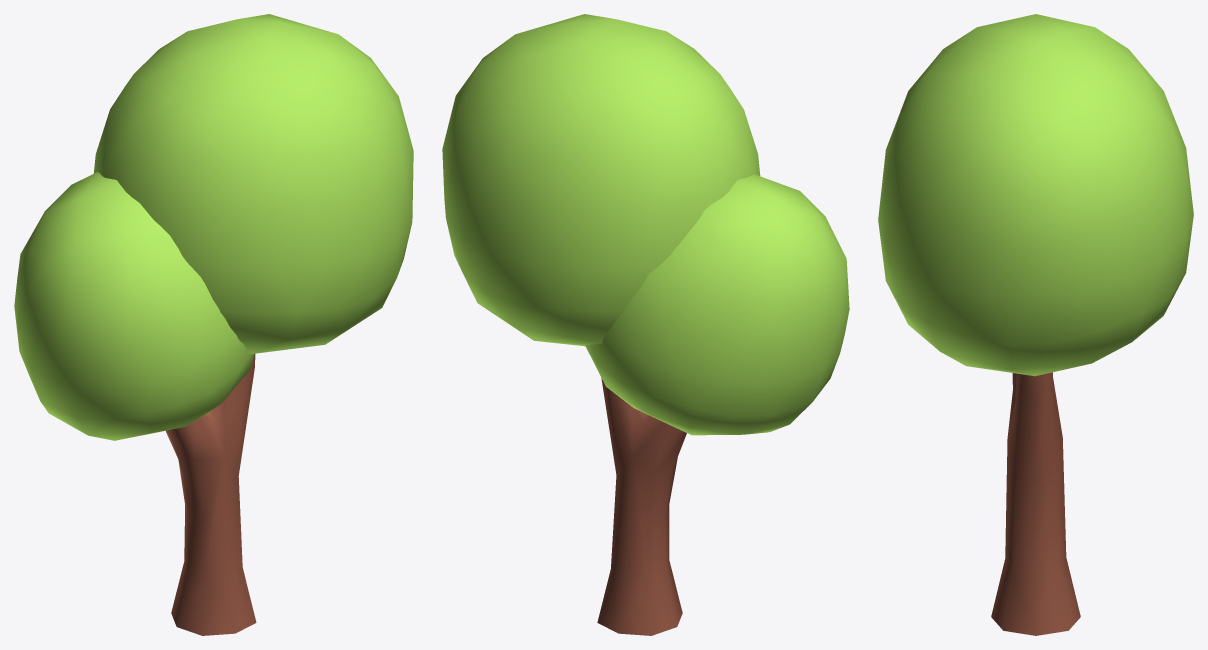
File: tree3.gltf
The picture shows the model from 3 angles, left to right: view 1: azimuth 30°, elevation 25°; view 2: azimuth 150°, elevation 25°; view 3: azimuth 270°, elevation 25°; orthographic projection. The views are drawn at different scales.
Visible parts, largest first — view 1: detail_treeB.001; view 2: detail_treeB.001; view 3: detail_treeB.001.
Boxes of the visible parts, x1,y1,x2,y2 form: detail_treeB.001: [14, 14, 413, 635]; detail_treeB.001: [442, 14, 849, 635]; detail_treeB.001: [878, 14, 1193, 635].
Bounding box in the file's own units: 0.0973 × 0.1454 × 0.0688.
